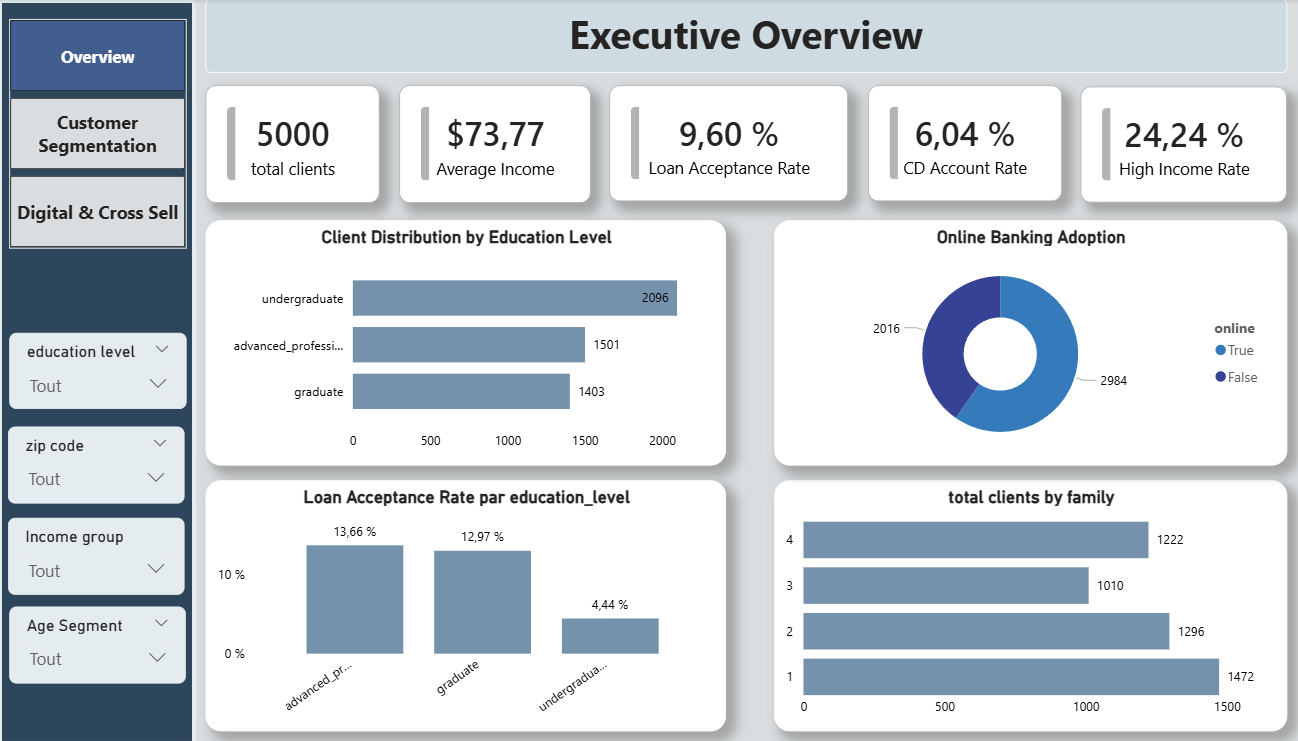

The dashboard page shown, as its layout file describes it:
{"tool":"powerbi","page":{"name":"Overview","canvas":[1280,720],"ordinal":0},"visuals":[{"type":"shape","box":[0,0,191.1,720],"z":0},{"type":"cardVisual","fields":{"Data":["_mesures.total customer"]},"box":[200.3,83.2,167.7,113.4],"z":1000},{"type":"cardVisual","fields":{"Data":["_mesures.total revenu"]},"box":[386.7,83.2,184.6,113.4],"z":2000},{"type":"clusteredBarChart","title":"Client Distribution by Education Level","fields":{"Category":["dim_education.education_level"],"Y":["_mesures.total customer"]},"box":[200.3,213.4,502.7,236.9],"z":3000},{"type":"clusteredBarChart","title":"total clients by family","fields":{"Category":["dim_customer_profile.family"],"Y":["_mesures.total customer"]},"box":[748.8,464.7,494.8,242.2],"z":4000},{"type":"cardVisual","fields":{"Data":["_mesures.Loan Acceptance Rate"]},"box":[589.9,83.2,230.4,112.2],"z":5000},{"type":"cardVisual","fields":{"Data":["_mesures.CD Account Rate"]},"box":[839.1,83.2,187,112.2],"z":6000},{"type":"clusteredColumnChart","fields":{"Y":["_mesures.Loan Acceptance Rate"],"Category":["dim_education.education_level"]},"box":[200.3,464.7,502.7,242.2],"z":7000},{"type":"donutChart","title":"Online Banking Adoption","fields":{"Category":["dim_customer_profile.online"],"Y":["_mesures.total clients"]},"box":[748.8,213.4,494.8,236.9],"z":8000},{"type":"slicer","fields":{"Values":["dim_education.education_level"]},"box":[10.7,322.1,171.1,73.5],"z":9000},{"type":"slicer","fields":{"Values":["dim_geography.zip_code"]},"box":[9.9,413.2,170.2,74],"z":10000},{"type":"slicer","fields":{"Values":["dim_customer_profile.Age Segment"]},"box":[11.1,585.9,170.2,74],"z":11000},{"type":"pageNavigator","box":[10.7,18.7,171.1,221.8],"z":12000},{"type":"textbox","box":[200.5,0,1043.7,70.8],"z":13000},{"type":"cardVisual","fields":{"Data":["_mesures.High Income Rate"]},"box":[1044.8,84.5,199.1,112.2],"z":14000},{"type":"slicer","fields":{"Values":["fact_loans.Income group"]},"box":[9.9,500.8,170.2,74],"z":14001}]}

Visuals, with their boxes in screenshot pixels (x1, y1, x2, y2), scaled from the page's 1280x720 canvas onto the 1298x741 screenshot:
shape: 0, 0, 194, 740
cardVisual - _mesures.total customer: 203, 86, 373, 202
cardVisual - _mesures.total revenu: 392, 86, 579, 202
"Client Distribution by Education Level" clusteredBarChart: 203, 220, 713, 463
"total clients by family" clusteredBarChart: 759, 478, 1261, 728
cardVisual - _mesures.Loan Acceptance Rate: 598, 86, 832, 201
cardVisual - _mesures.CD Account Rate: 851, 86, 1041, 201
clusteredColumnChart - _mesures.Loan Acceptance Rate x dim_education.education_level: 203, 478, 713, 728
"Online Banking Adoption" donutChart: 759, 220, 1261, 463
slicer - dim_education.education_level: 11, 331, 184, 407
slicer - dim_geography.zip_code: 10, 425, 183, 501
slicer - dim_customer_profile.Age Segment: 11, 603, 184, 679
pageNavigator: 11, 19, 184, 248
textbox: 203, 0, 1262, 73
cardVisual - _mesures.High Income Rate: 1059, 87, 1261, 202
slicer - fact_loans.Income group: 10, 515, 183, 592
